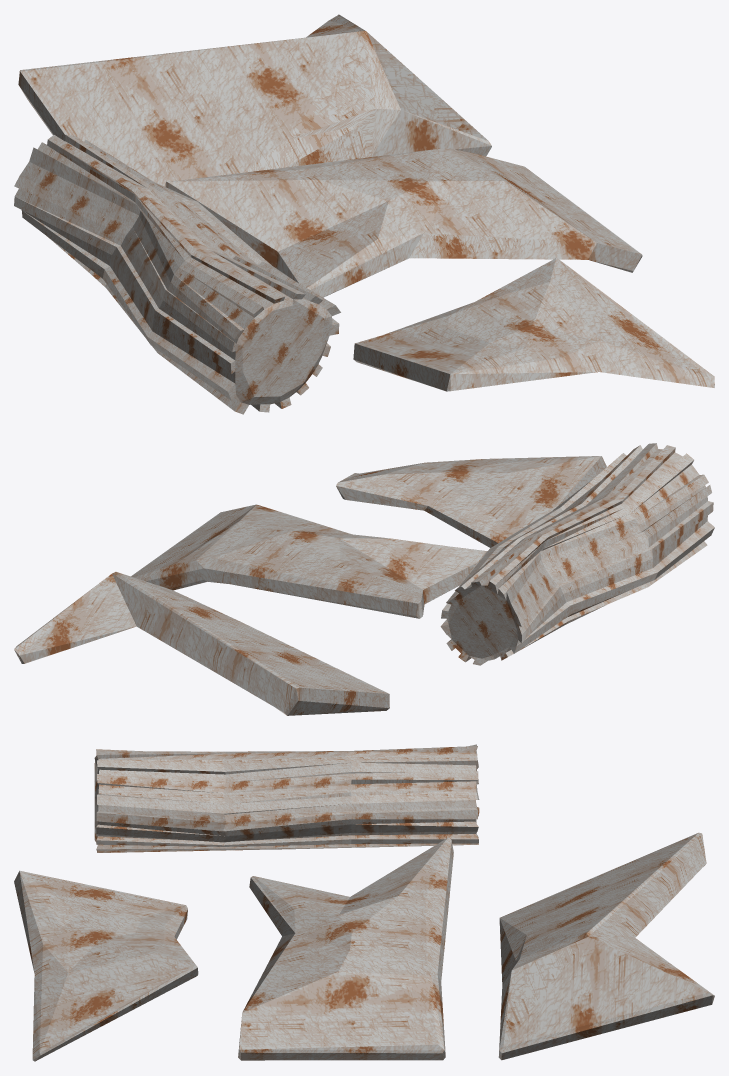
File: ship_parts_2.fbx
3 views of the same model, one above another, from view 1: azimuth 30°, elevation 25°; view 2: azimuth 150°, elevation 25°; view 3: azimuth 270°, elevation 25° (orthographic). The views are drawn at different scales.
Parts seen in each view (by area): view 1: Cube.002, Cylinder.002, Cube.001, Cube; view 2: Cylinder.002, Cube.001, Cube.002, Cube; view 3: Cylinder.002, Cube.001, Cube.002, Cube.
Boxes of the visible parts, <box> form: Cube.002: <box>18,14,491,186</box>; Cylinder.002: <box>14,134,340,414</box>; Cube.001: <box>165,148,642,297</box>; Cube: <box>353,257,714,391</box>; Cylinder.002: <box>440,443,714,665</box>; Cube.001: <box>131,504,487,618</box>; Cube.002: <box>14,572,389,715</box>; Cube: <box>336,456,606,547</box>; Cylinder.002: <box>94,744,479,852</box>; Cube.001: <box>238,837,453,1060</box>; Cube.002: <box>498,832,714,1060</box>; Cube: <box>14,870,198,1061</box>.
Bounding box in the file's own units: 4841 × 1526 × 6725.
Materials: 4 (4 with a texture image).
